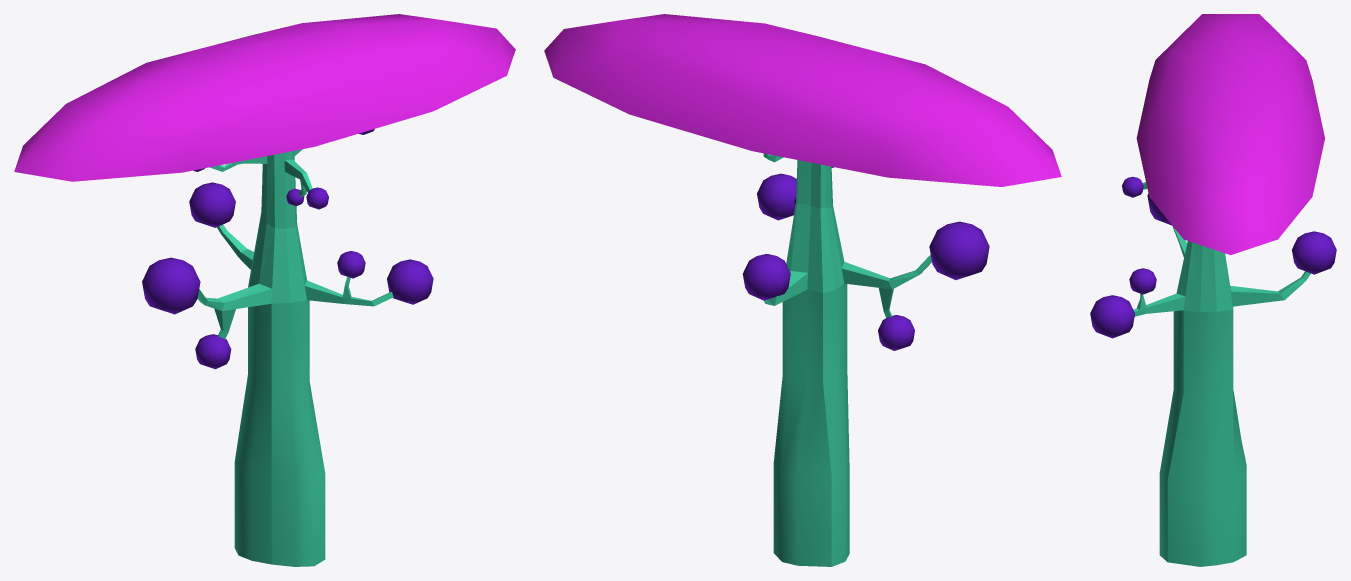
File: Tree 4.fbx
The picture shows the model from 3 angles, left to right: view 1: azimuth 30°, elevation 25°; view 2: azimuth 150°, elevation 25°; view 3: azimuth 270°, elevation 25°; orthographic projection. The views are drawn at different scales.
Visible parts, largest first — view 1: Tree 4; view 2: Tree 4; view 3: Tree 4.
Boxes of the visible parts, box(x1,y1,x2,y2) form: Tree 4: box(14, 14, 515, 566); Tree 4: box(544, 14, 1061, 566); Tree 4: box(1090, 14, 1336, 566).
Bounding box in the file's own units: 111 × 105 × 49.54.
Materials: 4 (3 with a texture image).
